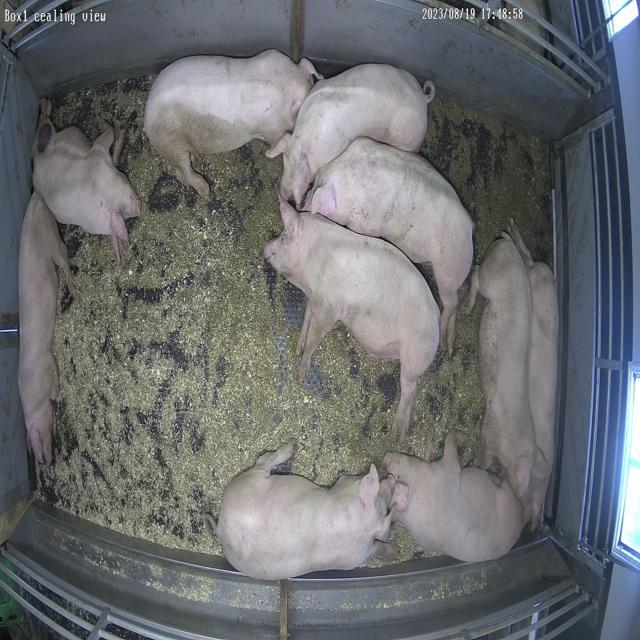Dirt: (422, 97, 553, 262)
Pig: (264, 201, 441, 442), (304, 137, 474, 352), (144, 49, 320, 196), (266, 63, 436, 208), (470, 233, 538, 510), (530, 260, 560, 530)
